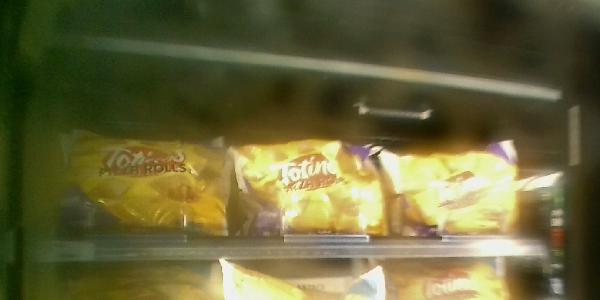icecream: (51, 130, 234, 240), (236, 136, 392, 239), (377, 130, 525, 237)
